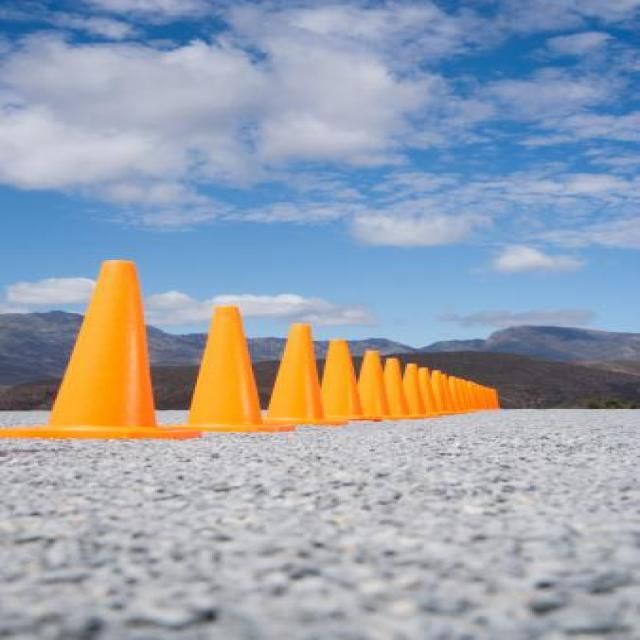Cone: (8, 258, 188, 440), (186, 304, 274, 429), (278, 322, 332, 424), (328, 339, 377, 416), (364, 351, 386, 420), (383, 358, 407, 418), (405, 365, 424, 419)
